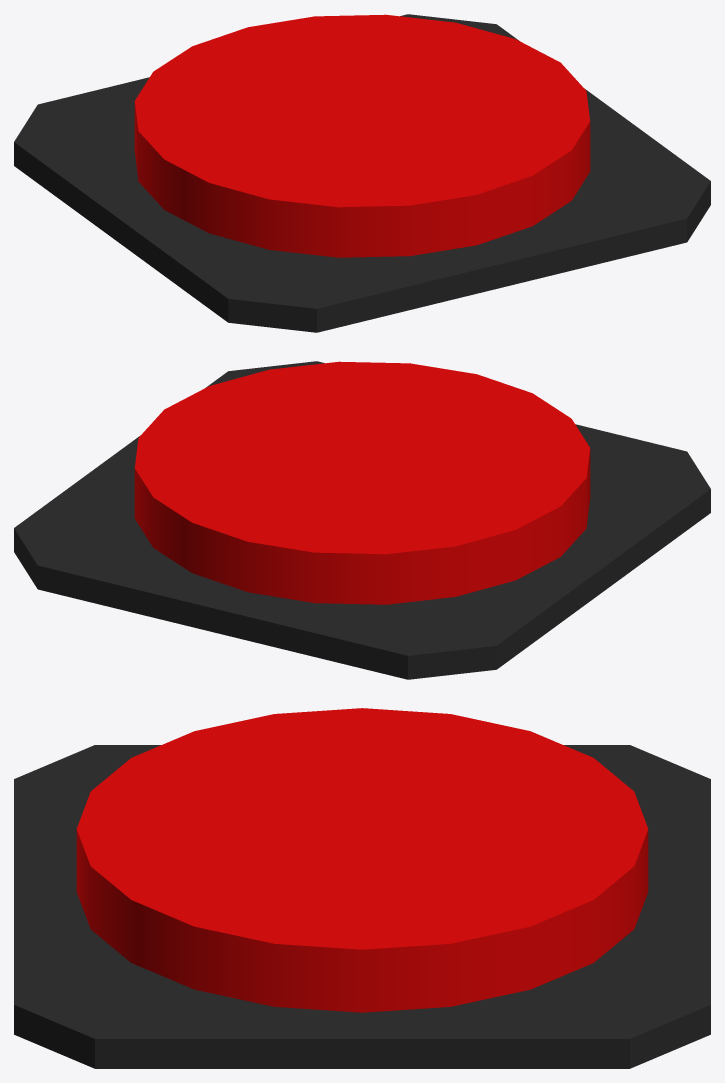
File: Red Button .fbx
3 renders of one model, top to bottom at view 1: azimuth 30°, elevation 25°; view 2: azimuth 150°, elevation 25°; view 3: azimuth 270°, elevation 25°, orthographic. The views are drawn at different scales.
Parts seen in each view (by area): view 1: pCylinder2, pCube2; view 2: pCylinder2, pCube2; view 3: pCylinder2, pCube2.
Part boxes in pixels (box(x1,y1,x2,y2)): pCylinder2: box(134, 14, 590, 257); pCube2: box(14, 14, 710, 332); pCylinder2: box(134, 361, 590, 604); pCube2: box(14, 361, 710, 679); pCylinder2: box(76, 708, 648, 1012); pCube2: box(14, 745, 710, 1068).
Size of the model in its own units: 4.91 by 0.7238 by 4.92.
